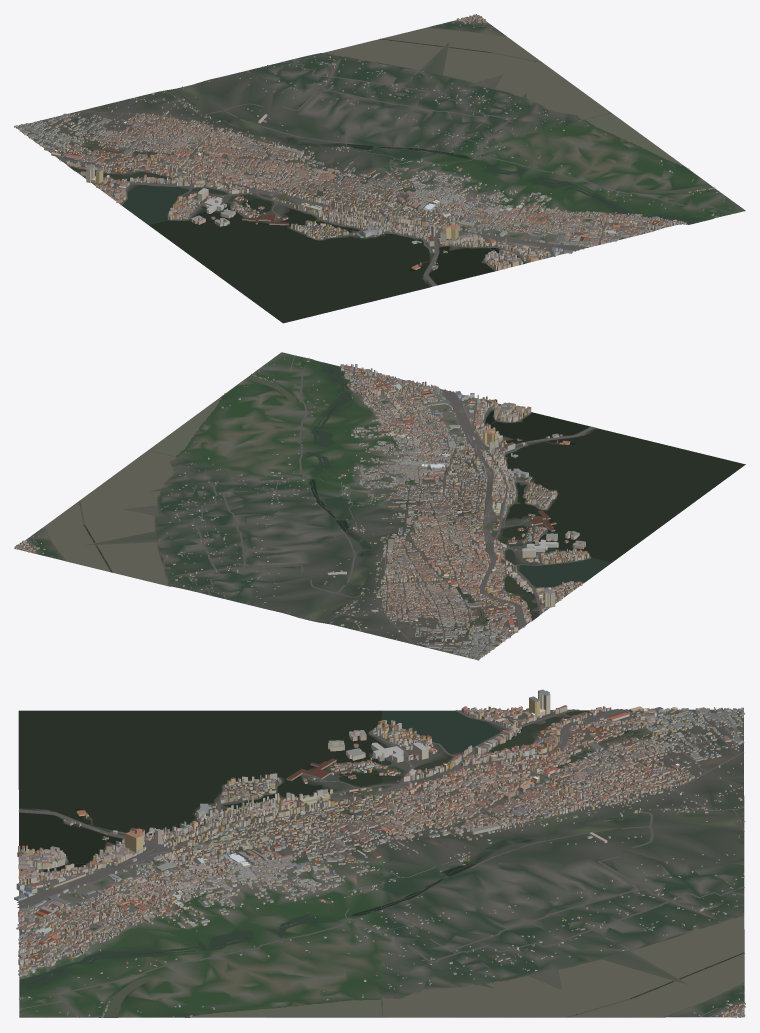
3 renders of one model, top to bottom at view 1: azimuth 30°, elevation 25°; view 2: azimuth 150°, elevation 25°; view 3: azimuth 270°, elevation 25°, orthographic. The views are drawn at different scales.
Visible parts, largest first — view 1: ground, buildings, water, roads; view 2: ground, water, buildings, roads; view 3: ground, buildings, water, roads.
Boxes of the visible parts, left/top/right/bottom form: ground: left=17, top=15, right=745, bottom=323; buildings: left=14, top=14, right=730, bottom=270; water: left=70, top=28, right=714, bottom=322; roads: left=20, top=16, right=732, bottom=286; ground: left=14, top=352, right=745, bottom=659; water: left=44, top=360, right=745, bottom=625; buildings: left=14, top=358, right=589, bottom=660; roads: left=19, top=355, right=594, bottom=654; ground: left=18, top=709, right=744, bottom=1017; buildings: left=14, top=689, right=745, bottom=1018; water: left=19, top=710, right=744, bottom=1017; roads: left=17, top=708, right=744, bottom=1017.
Size of the model in its own units: 2824 by 89.47 by 2830.
